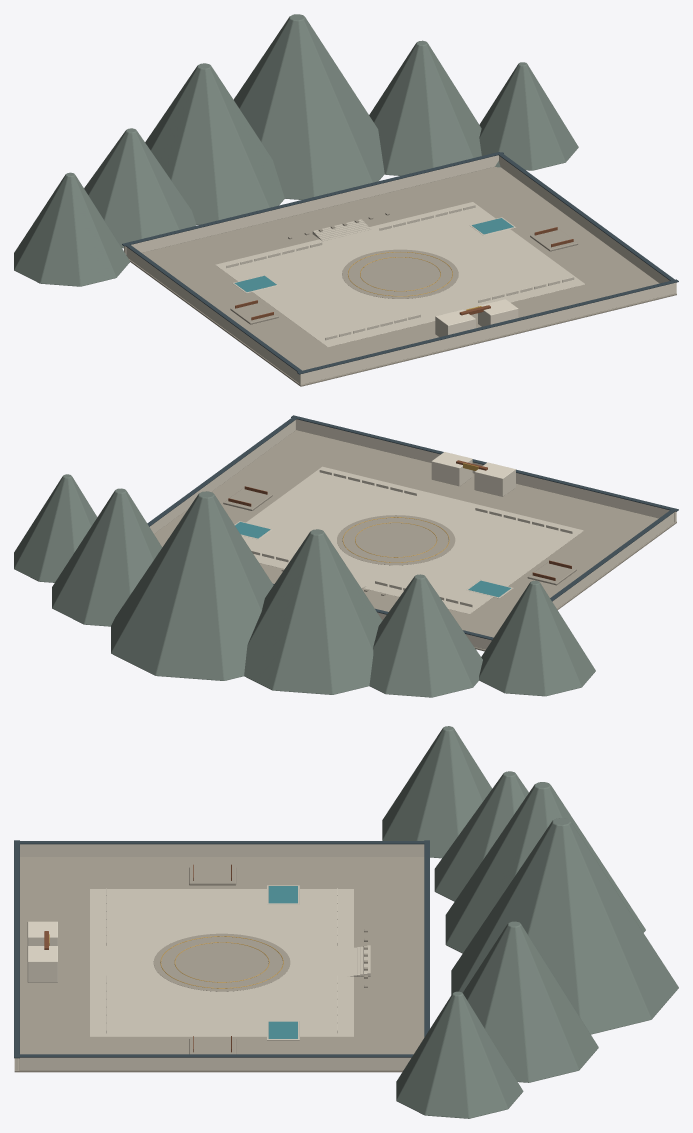
Rendered from mountain_arena_shell.glb.
3 renders of one model, top to bottom at view 1: azimuth 30°, elevation 25°; view 2: azimuth 150°, elevation 25°; view 3: azimuth 270°, elevation 25°, orthographic. The views are drawn at different scales.
Visible parts, largest first — view 1: Ground, InnerCourt, Mountain_2, Mountain_1, Mountain_3, Mountain_5, Mountain_0, Mountain_4, CombatMedallion, WallZ_43.5, WallZ_-43.5, WallX_-53.5 (+9 smaller); view 2: InnerCourt, Mountain_2, Ground, Mountain_1, Mountain_0, Mountain_3, Mountain_5, Mountain_4, CombatMedallion, WallZ_43.5, WallX_53.5, WallX_-53.5 (+7 smaller); view 3: Ground, InnerCourt, Mountain_2, Mountain_3, Mountain_4, Mountain_5, Mountain_1, CombatMedallion, WallX_53.5, WallX_-53.5, Mountain_0, WallCapX_-53.5 (+7 smaller).
Part boxes in pixels (x1,y1,x2,y2): Ground: (129,167,676,386); InnerCourt: (215,202,585,346); Mountain_2: (233,14,384,199); Mountain_1: (145,63,284,224); Mountain_3: (369,40,481,175); Mountain_5: (14,172,130,286); Mountain_0: (84,128,196,248); Mountain_4: (479,62,578,170); CombatMedallion: (342,249,458,298); WallZ_43.5: (299,282,676,384); WallZ_-43.5: (124,155,498,254); WallX_-53.5: (126,247,298,382); InnerCourt: (242,466,583,614); Mountain_2: (111,491,273,680); Ground: (154,430,676,651); Mountain_1: (244,529,382,694); Mountain_0: (369,574,482,697); Mountain_3: (52,488,162,626); Mountain_5: (479,580,595,696); Mountain_4: (14,474,97,582); CombatMedallion: (337,515,455,565); WallZ_43.5: (296,419,676,522); WallX_53.5: (149,420,295,533); WallX_-53.5: (552,512,674,608); Ground: (14,857,424,1072); InnerCourt: (90,889,353,1036); Mountain_2: (451,818,678,1034); Mountain_3: (463,921,598,1082); Mountain_4: (396,991,523,1118); Mountain_5: (382,726,492,858); Mountain_1: (445,782,645,953); CombatMedallion: (153,933,290,991); WallX_53.5: (19,1057,411,1070); WallX_-53.5: (20,844,424,856); Mountain_0: (434,771,528,901); WallCapX_-53.5: (17,841,426,844).
Bounding box in the file's own units: 159 × 39.17 × 141.
